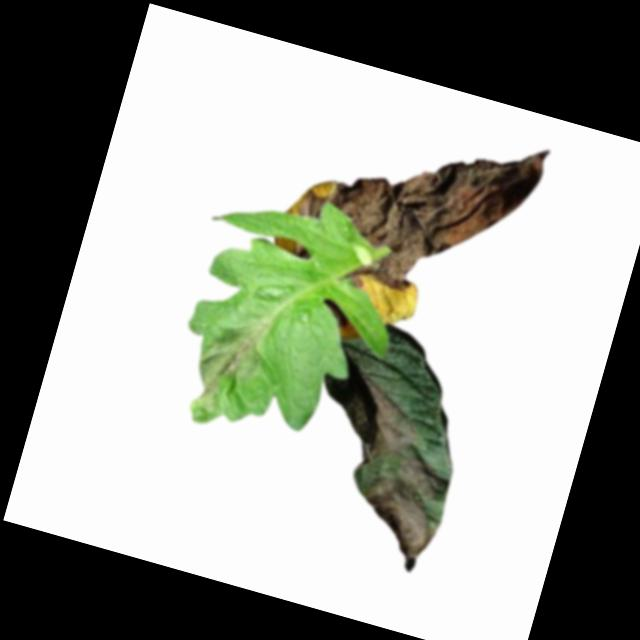Late_blight: (283, 93, 549, 326), (348, 449, 453, 579), (183, 307, 269, 423), (354, 378, 426, 465)
